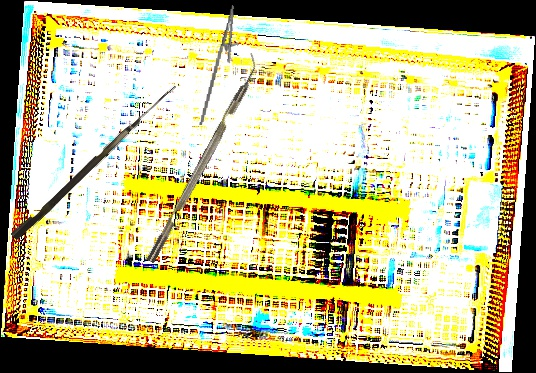Chopper: (136, 51, 266, 264)
Hook Surgical: (10, 77, 177, 244)
Needle Holder: (199, 3, 244, 129)
